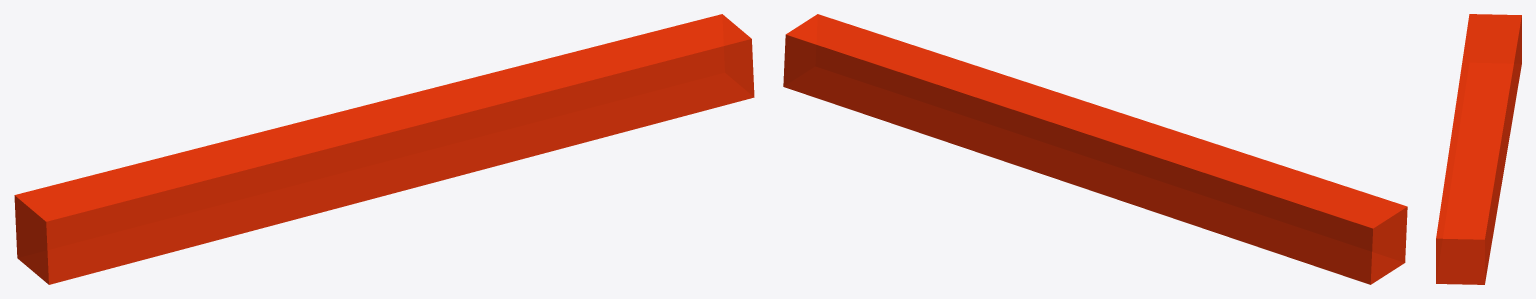
File: Event_421364160_EErechit_20.fbx
The picture shows the model from 3 angles, left to right: view 1: azimuth 30°, elevation 25°; view 2: azimuth 150°, elevation 25°; view 3: azimuth 270°, elevation 25°; orthographic projection. The views are drawn at different scales.
Visible parts, largest first — view 1: Model; view 2: Model; view 3: Model.
Boxes of the visible parts, left/top/right/bottom form: Model: left=14, top=14, right=754, bottom=284; Model: left=783, top=14, right=1407, bottom=284; Model: left=1436, top=14, right=1521, bottom=284.
Bounding box in the file's own units: 0.8814 × 0.118 × 0.1275.
